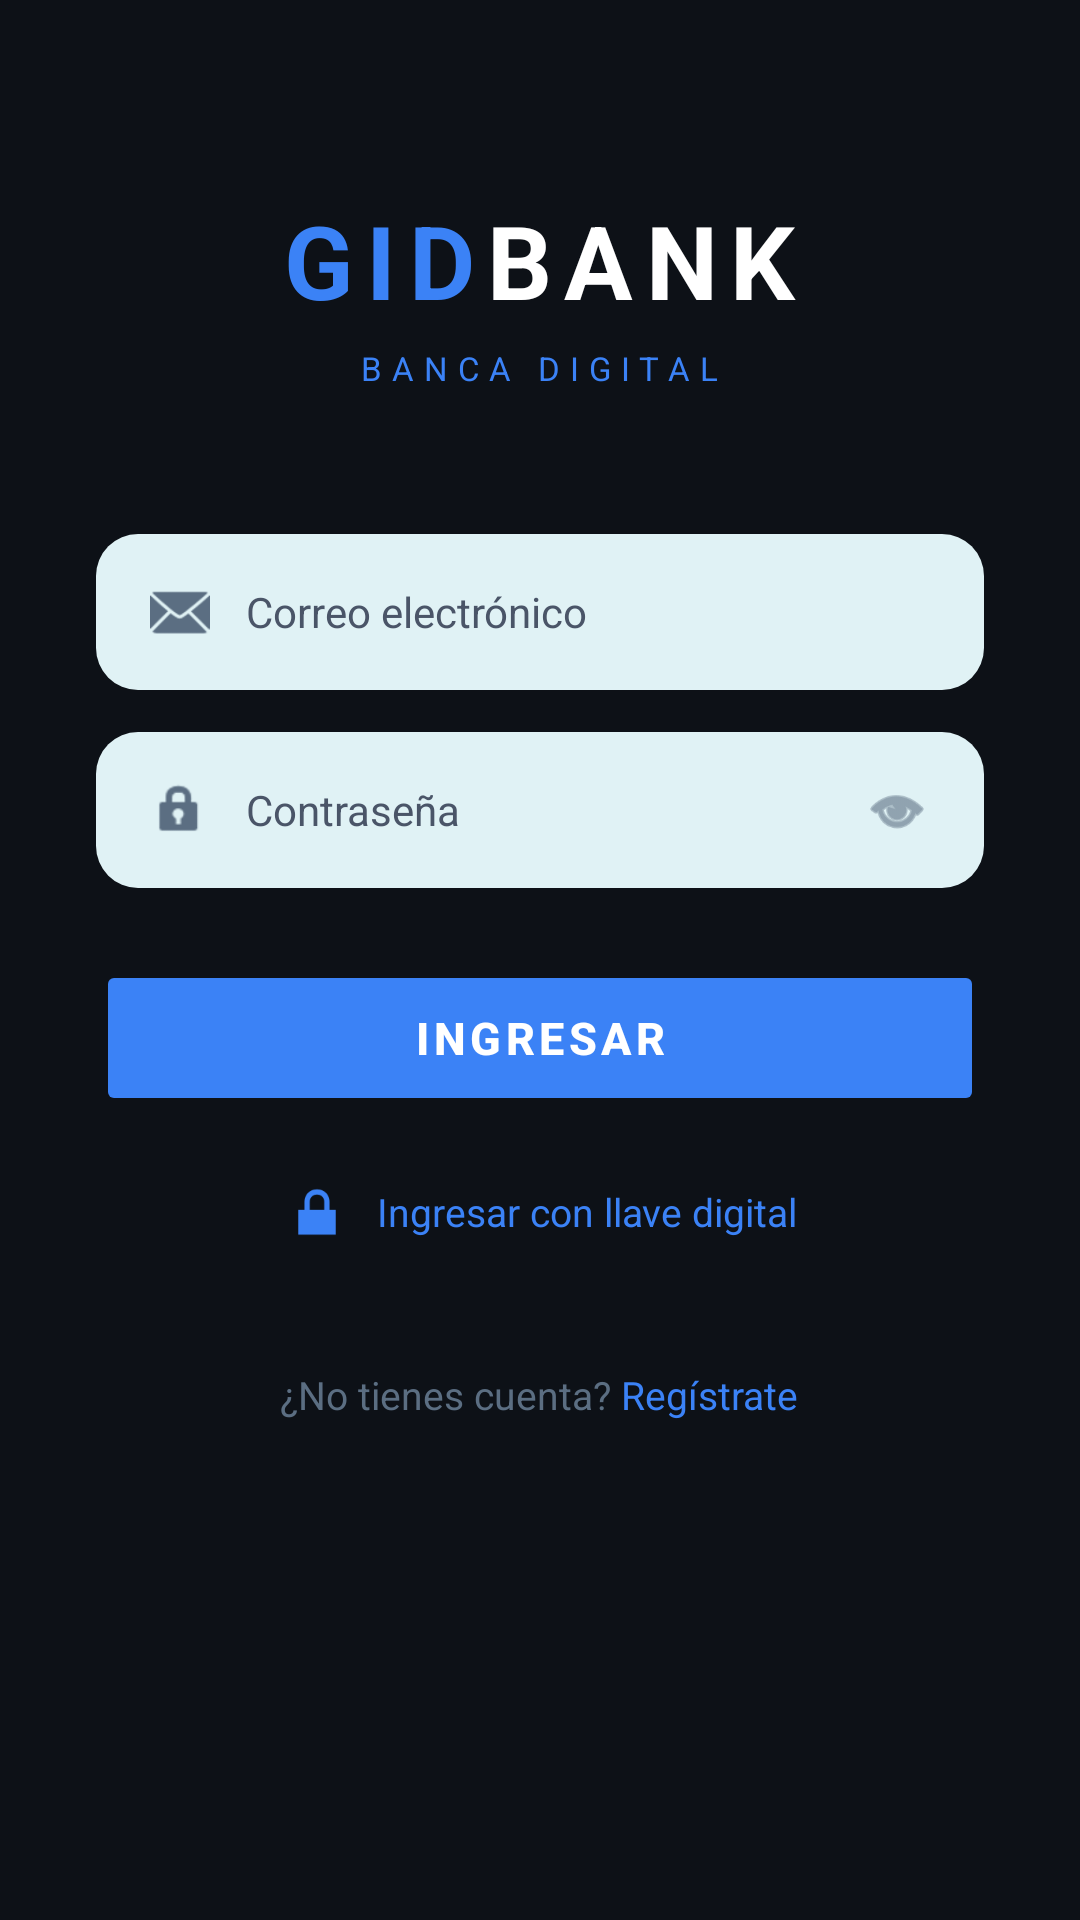

Locate icon controls on the screen. Image size 1080px x 1920px, boxes as {"left": x1, "top": y1, "right": x2, "bottom": y2}.
email: {"left": 150, "top": 591, "right": 210, "bottom": 634}
view: {"left": 870, "top": 795, "right": 924, "bottom": 828}
